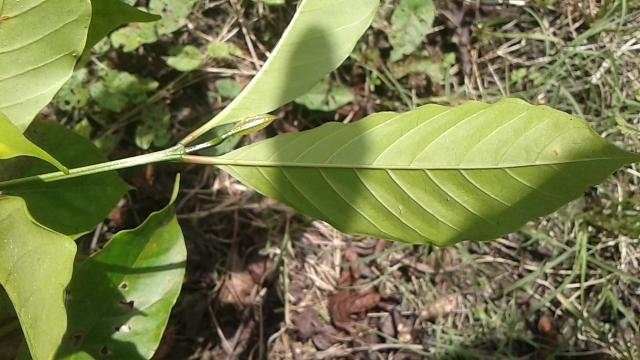rust_level_1: (218, 95, 640, 248)
